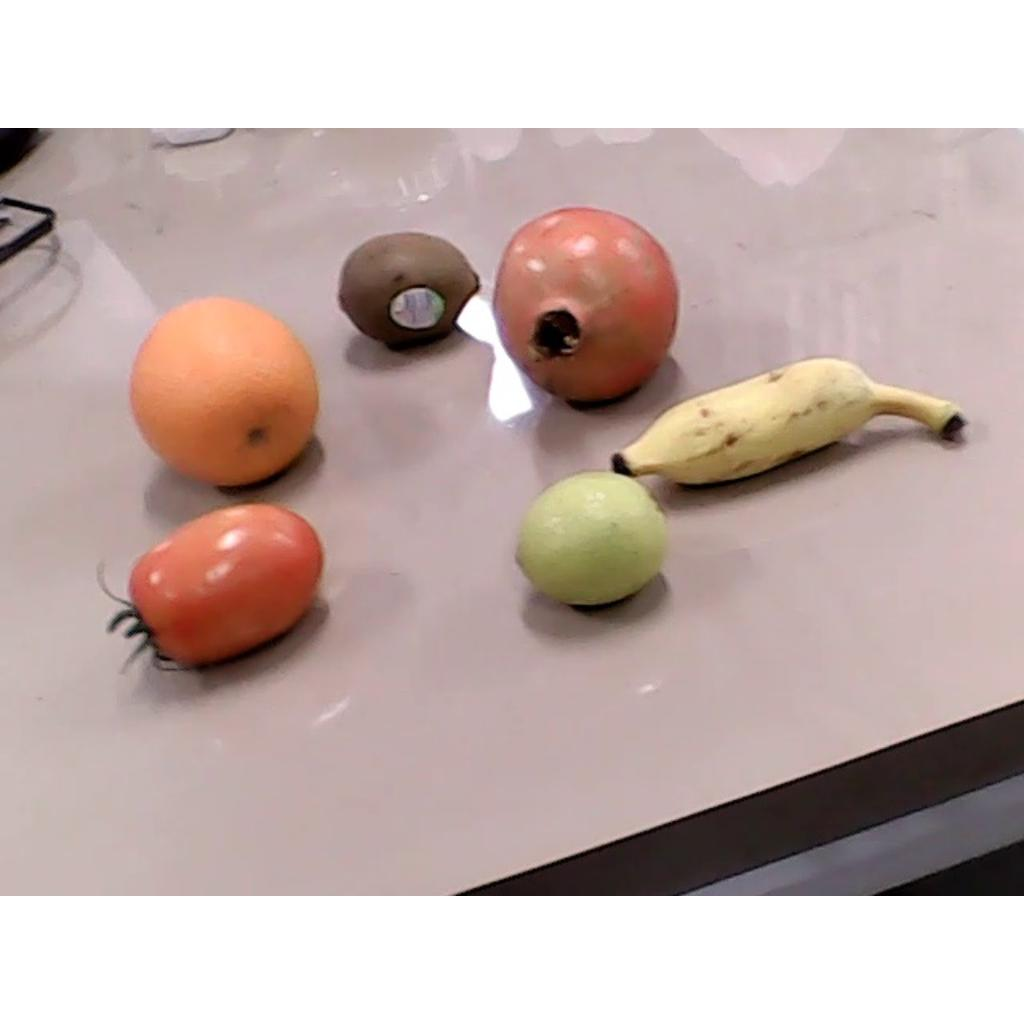kiwi: (337, 231, 480, 343)
lemon: (515, 472, 666, 605)
orange: (129, 297, 317, 485)
pomegranate: (492, 206, 678, 403)
tomato: (97, 501, 322, 673)
